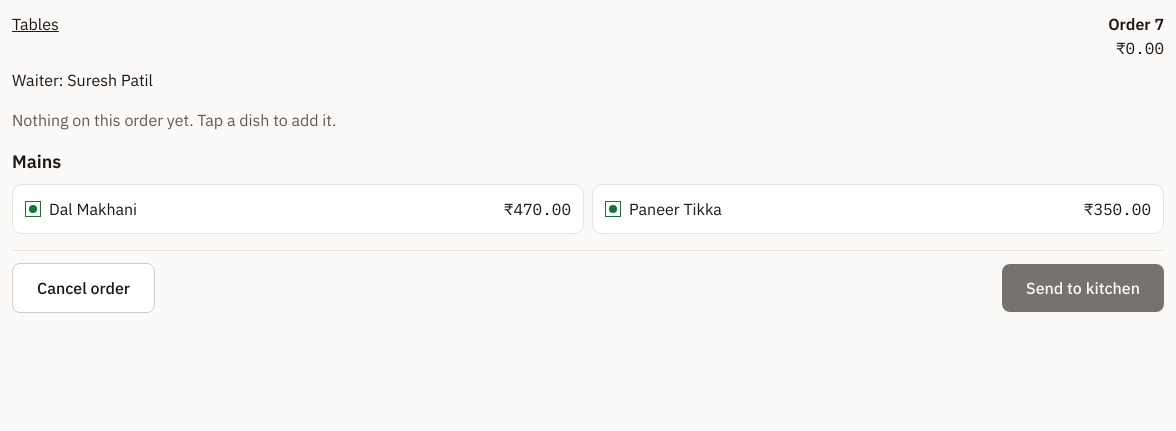
Test: before the server answers › shows a tapped dish at once, as being added and with no price
Click the button "Dal Makhani ₹470.00": (93, 209) [12,184,584,234]
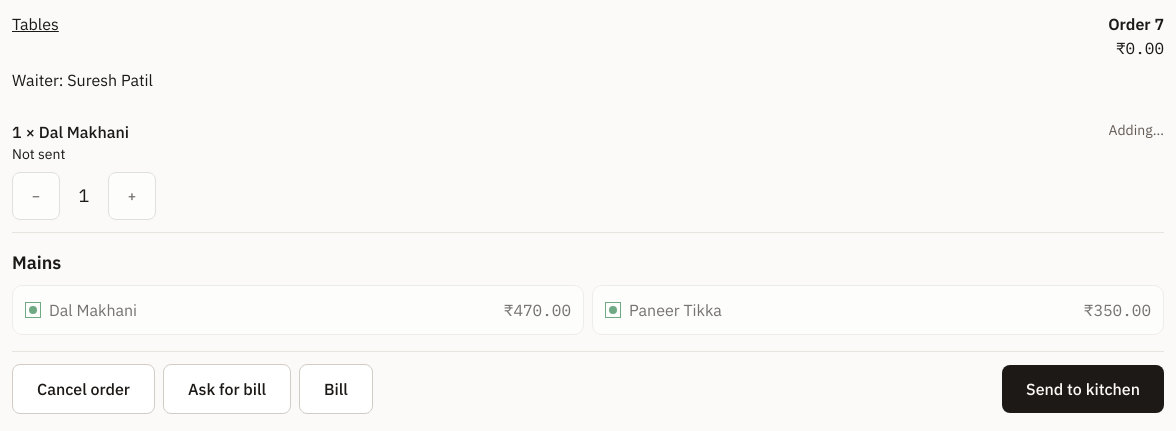
Result: the text "1 × Dal Makhani" is shown at [12,120,129,144]
Result: the text "Adding…" is shown at [1108,120,1164,140]
